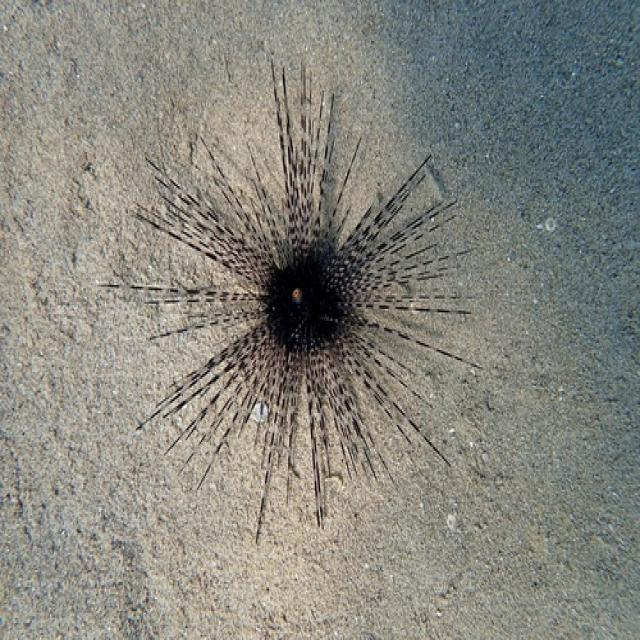Urchin: (107, 63, 484, 545)
